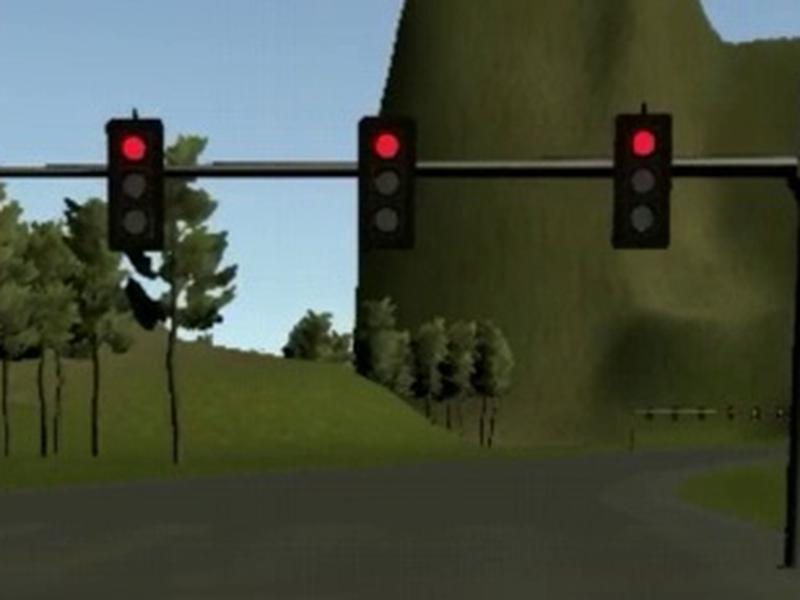Red: (614, 113, 670, 246), (106, 120, 163, 250), (360, 117, 416, 247)
